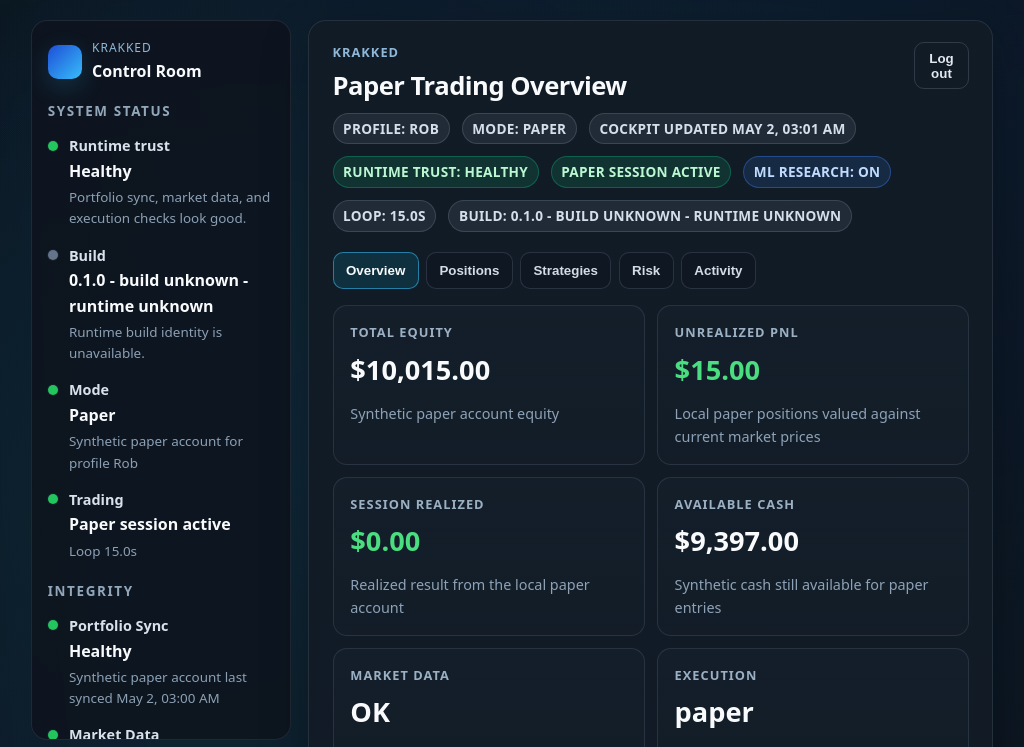
it: cockpit operator paths › shows active portfolio db path in portfolio integrity advanced view
Expected: the heading "Paper Trading Overview" is shown, [332, 68, 627, 103]
Expected: the text "Runtime trust: Healthy" is shown, [332, 156, 539, 188]
Click the button with test id "cockpit-tab-positions" at (469, 270), box [426, 252, 513, 289]
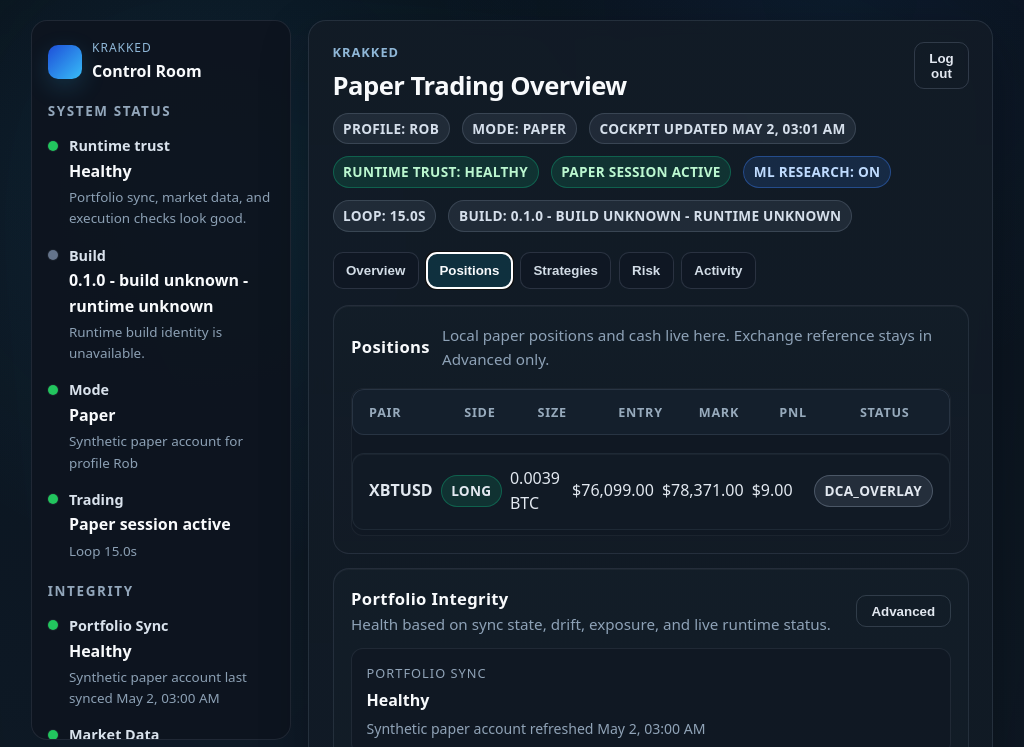
Click the button "Advanced" at (903, 611), box [856, 595, 950, 627]
(page scrolled)
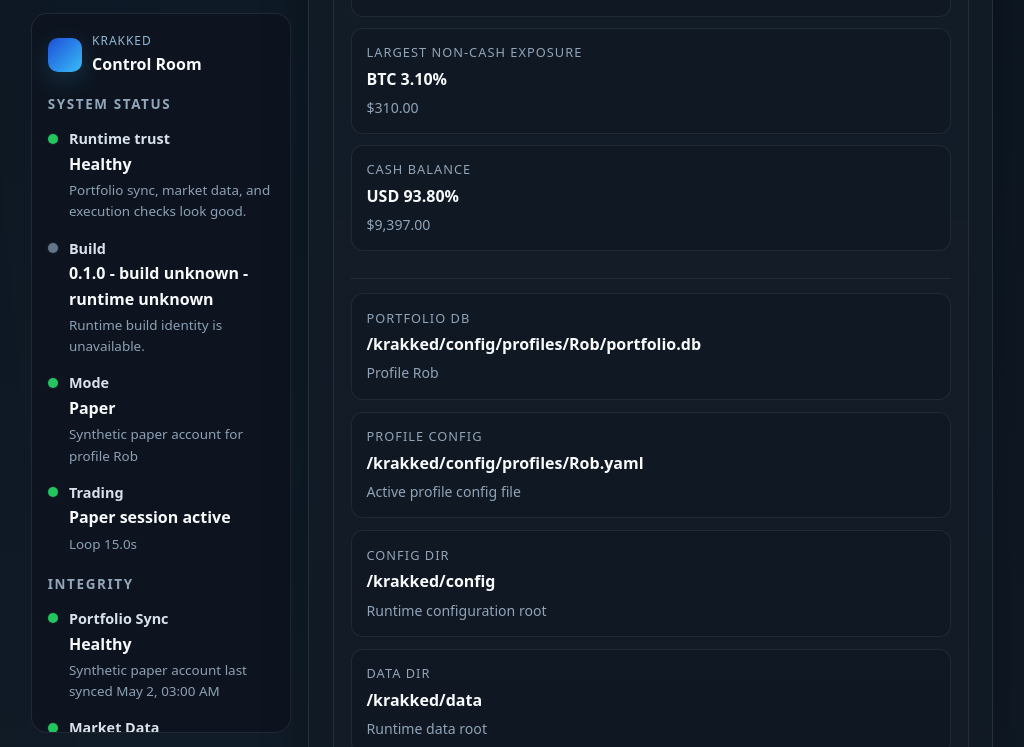
Result: the text "Portfolio DB" is shown at [366, 308, 470, 326]
Result: the text "/krakked/config/profiles/Rob/portfolio.db" is shown at [366, 333, 701, 355]
Result: the text "Profile Rob" is shown at [366, 363, 439, 382]
